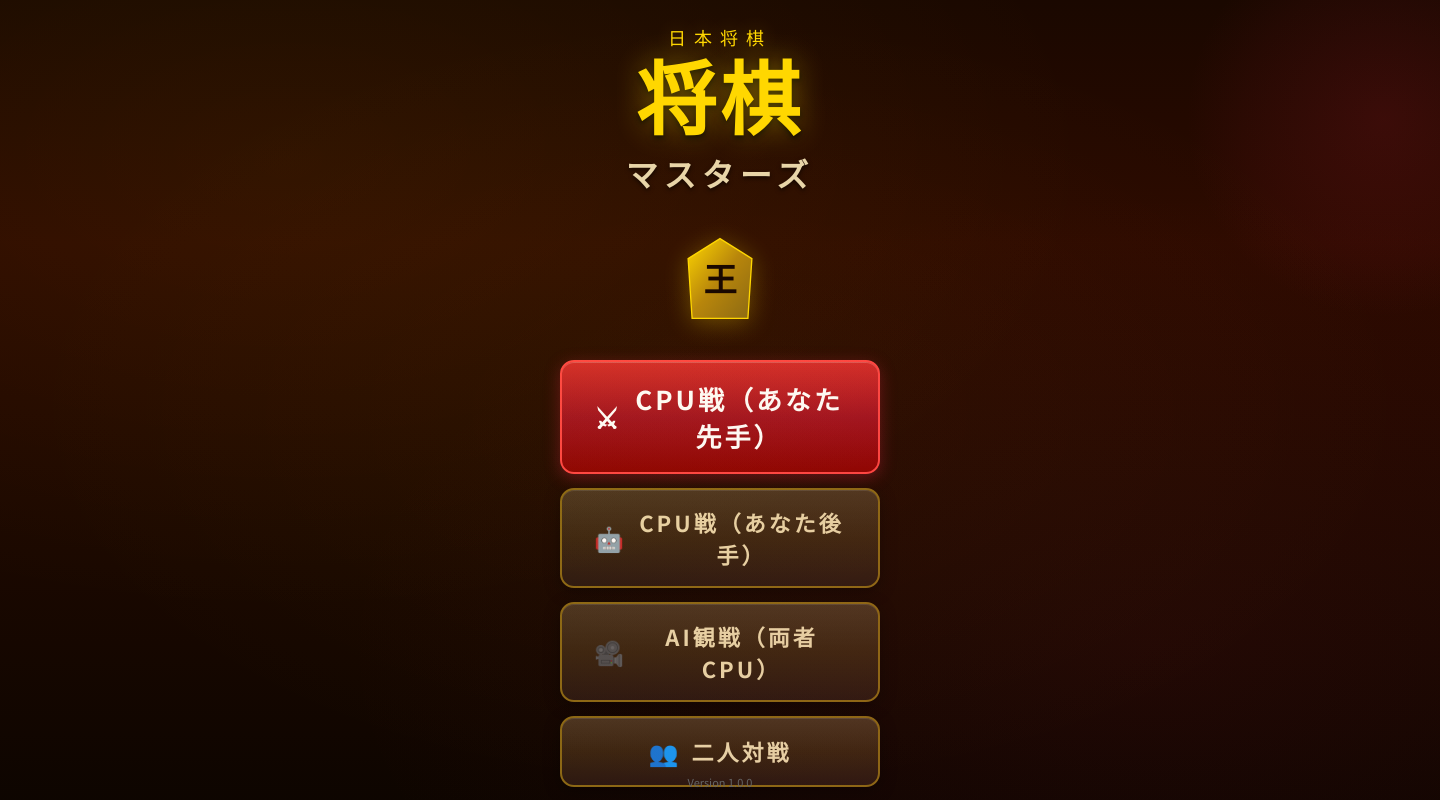
Scenario: App › navigates to game screen on 2-player button click
The image size is (1440, 800).
What coordinates should you click on to do the following:
click the button "👥 二人対戦"
I would click on:
 (720, 751)
Its box is left=560, top=716, right=880, bottom=786.
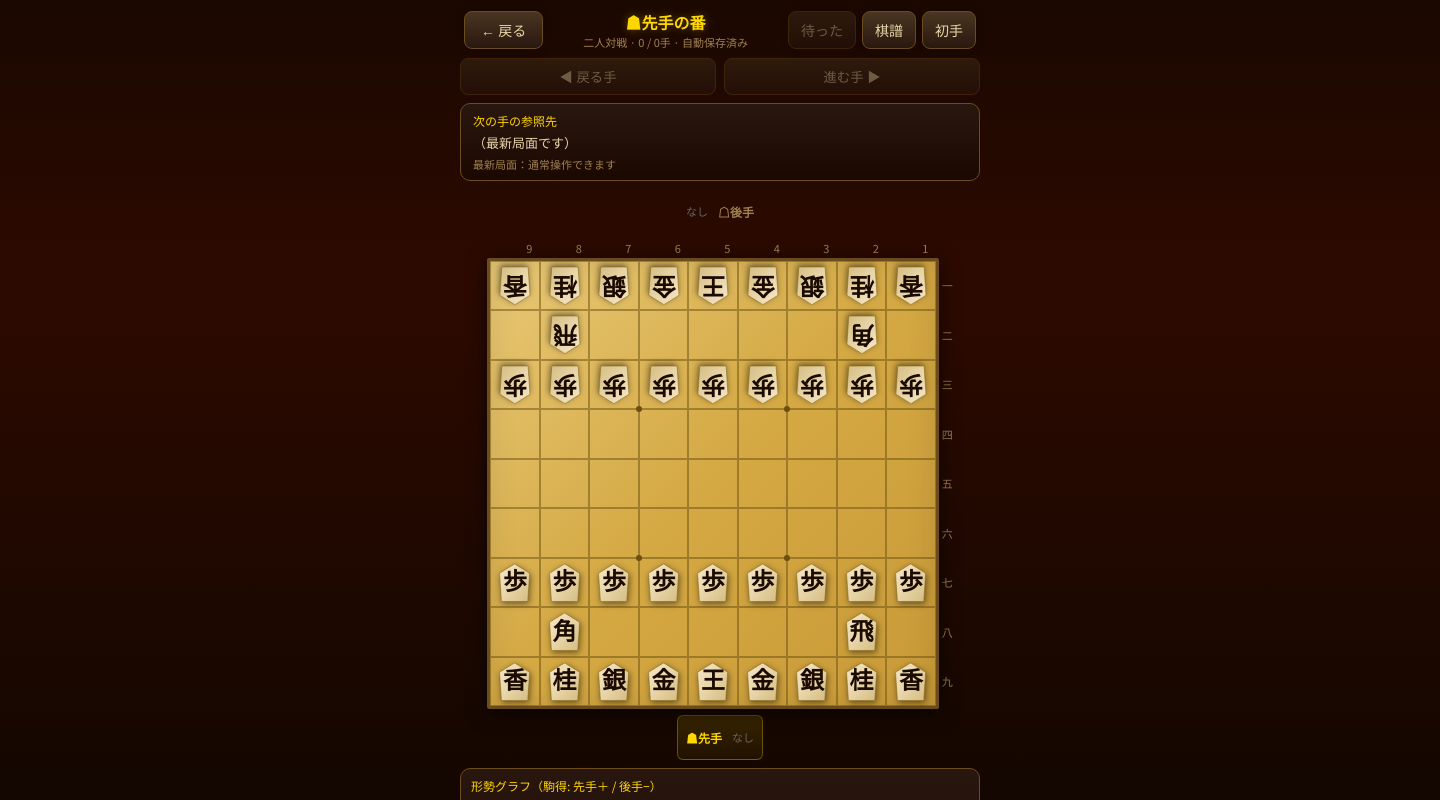
Now the text "☗先手の番" is shown, box left=626, top=10, right=706, bottom=34
Now the text "二人対戦 · 0 / 0手 · 自動保存済み" is shown, box left=583, top=34, right=748, bottom=50
